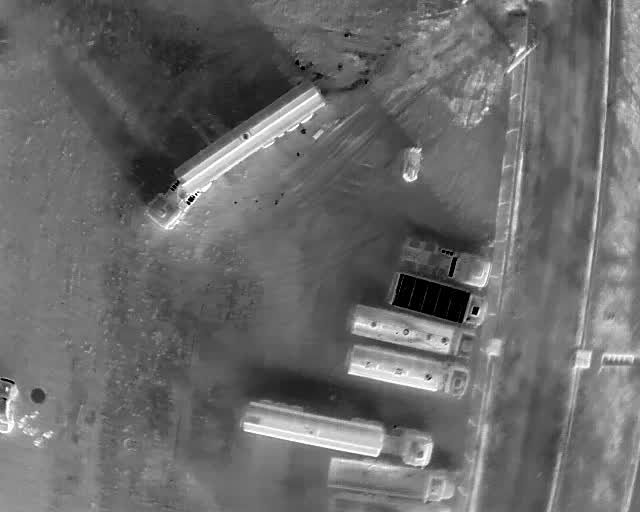car: (0, 377, 18, 433)
person: (33, 436, 45, 448), (40, 429, 54, 437), (20, 414, 30, 424), (29, 427, 38, 436), (29, 410, 38, 419), (23, 423, 31, 433), (16, 422, 25, 428)
truck: (146, 80, 327, 230), (240, 399, 435, 471), (347, 301, 479, 361), (344, 342, 471, 400), (386, 272, 492, 329), (325, 455, 454, 501), (397, 234, 495, 289)
